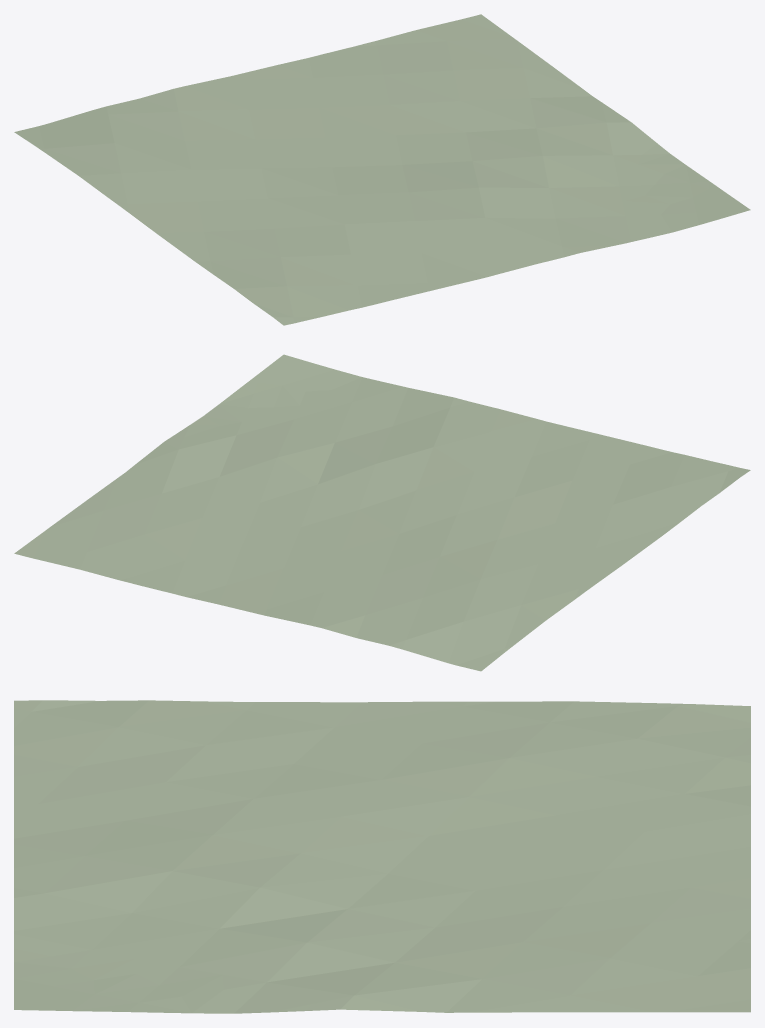
The model's file is SM_MPRR_Terrain_2_-2.fbx.
The picture shows the model from 3 angles, top to bottom: view 1: azimuth 30°, elevation 25°; view 2: azimuth 150°, elevation 25°; view 3: azimuth 270°, elevation 25°; orthographic projection. The views are drawn at different scales.
Visible parts, largest first — view 1: SM_MPRR_Terrain_2_-2; view 2: SM_MPRR_Terrain_2_-2; view 3: SM_MPRR_Terrain_2_-2.
Boxes of the visible parts, box(x1,y1,x2,y2) form: SM_MPRR_Terrain_2_-2: box(14, 14, 750, 325); SM_MPRR_Terrain_2_-2: box(14, 354, 750, 671); SM_MPRR_Terrain_2_-2: box(14, 700, 750, 1013).
Size of the model in its own units: 15000 by 15000 by 204.
